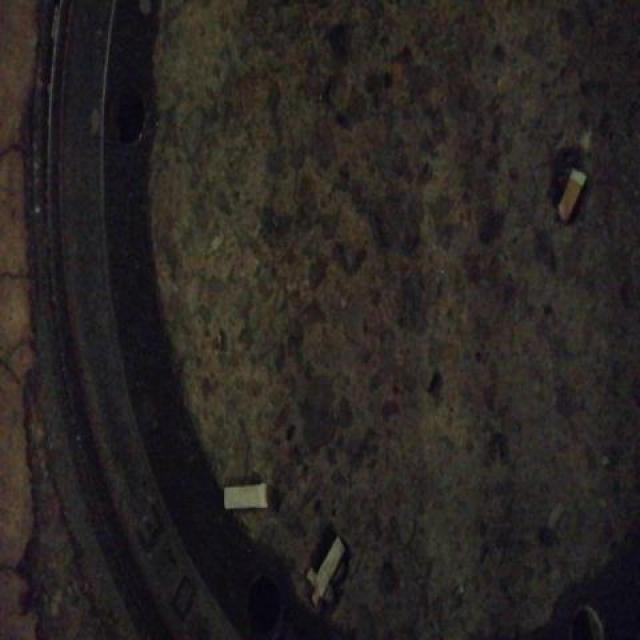non-organic waste: (312, 535, 348, 600), (554, 165, 590, 226), (219, 479, 273, 516)
